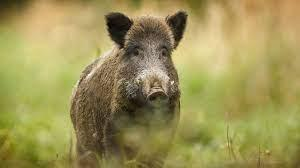wildboar: (69, 7, 192, 168)
